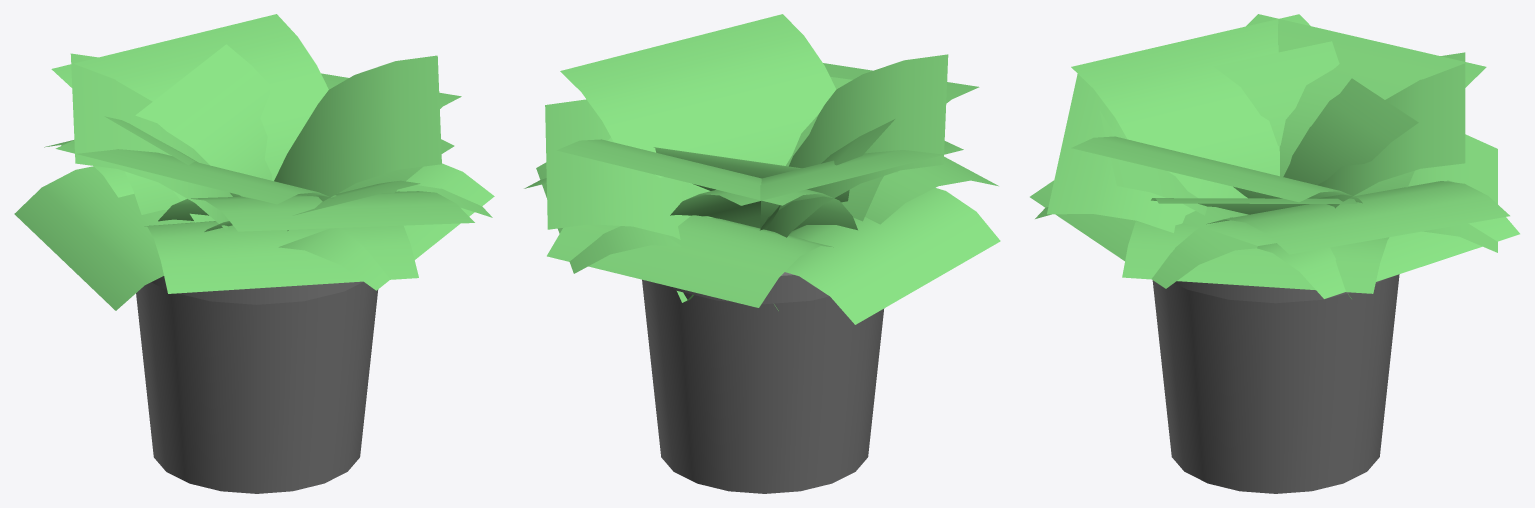
The model's file is SM_flowerpot_03.fbx.
3 views of the same model, side by side, from view 1: azimuth 30°, elevation 25°; view 2: azimuth 150°, elevation 25°; view 3: azimuth 270°, elevation 25° (orthographic).
Visible parts, largest first — view 1: Cylinder185; view 2: Cylinder185; view 3: Cylinder185.
Part boxes in pixels (<box>): Cylinder185: <box>14,14,494,493</box>; Cylinder185: <box>524,14,1000,493</box>; Cylinder185: <box>1030,14,1519,493</box>.
Size of the model in its own units: 26.15 by 21.35 by 27.42.
